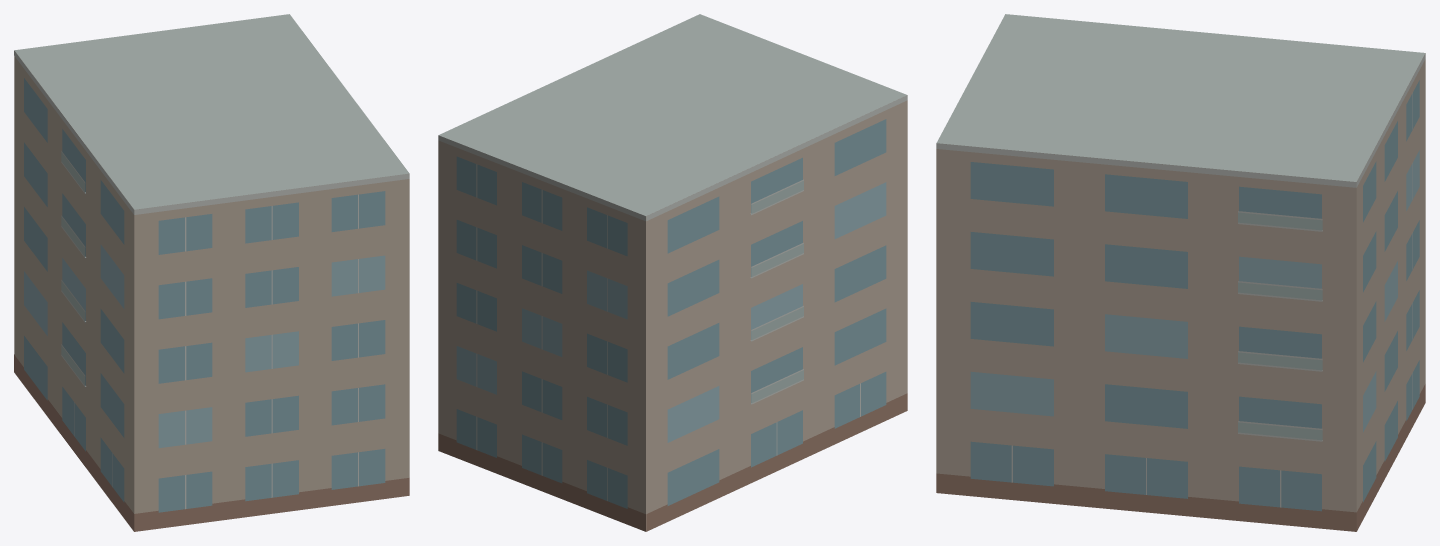
File: survey-upis-32927595.glb
3 renders of one model, left to right at view 1: azimuth 30°, elevation 25°; view 2: azimuth 150°, elevation 25°; view 3: azimuth 270°, elevation 25°, orthographic. The views are drawn at different scales.
Visible parts, largest first — view 1: survey-upis-32927595.tmp; view 2: survey-upis-32927595.tmp; view 3: survey-upis-32927595.tmp.
Boxes of the visible parts, x1=… form: survey-upis-32927595.tmp: x1=14, y1=14, x2=409, y2=531; survey-upis-32927595.tmp: x1=438, y1=14, x2=907, y2=531; survey-upis-32927595.tmp: x1=936, y1=14, x2=1425, y2=531.
Bounding box in the file's own units: 15.26 × 14.8 × 18.77.
